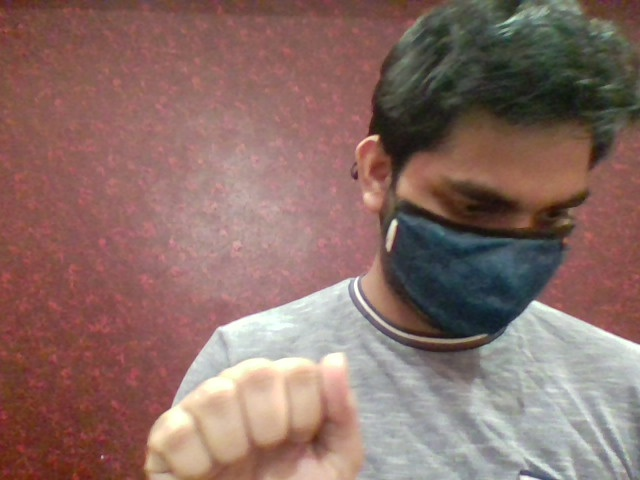a: (128, 350, 381, 480)
